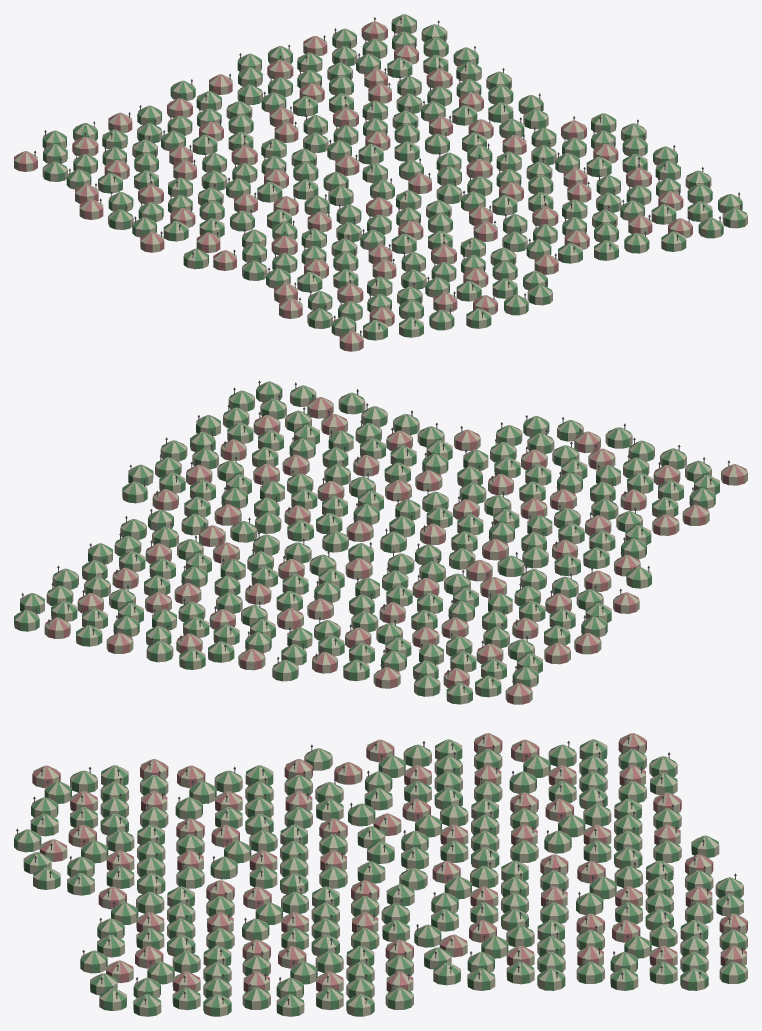
The model's file is Festival2.fbx.
The picture shows the model from 3 angles, top to bottom: view 1: azimuth 30°, elevation 25°; view 2: azimuth 150°, elevation 25°; view 3: azimuth 270°, elevation 25°; orthographic projection. The views are drawn at different scales.
Parts seen in each view (by area): view 1: polySurface289; view 2: polySurface289; view 3: polySurface289.
Boxes of the visible parts, x1,y1,x2,y2 form: polySurface289: (14, 14, 747, 351); polySurface289: (14, 380, 747, 704); polySurface289: (14, 733, 747, 1016).
Bounding box in the file's own units: 787 × 23.62 × 896.
